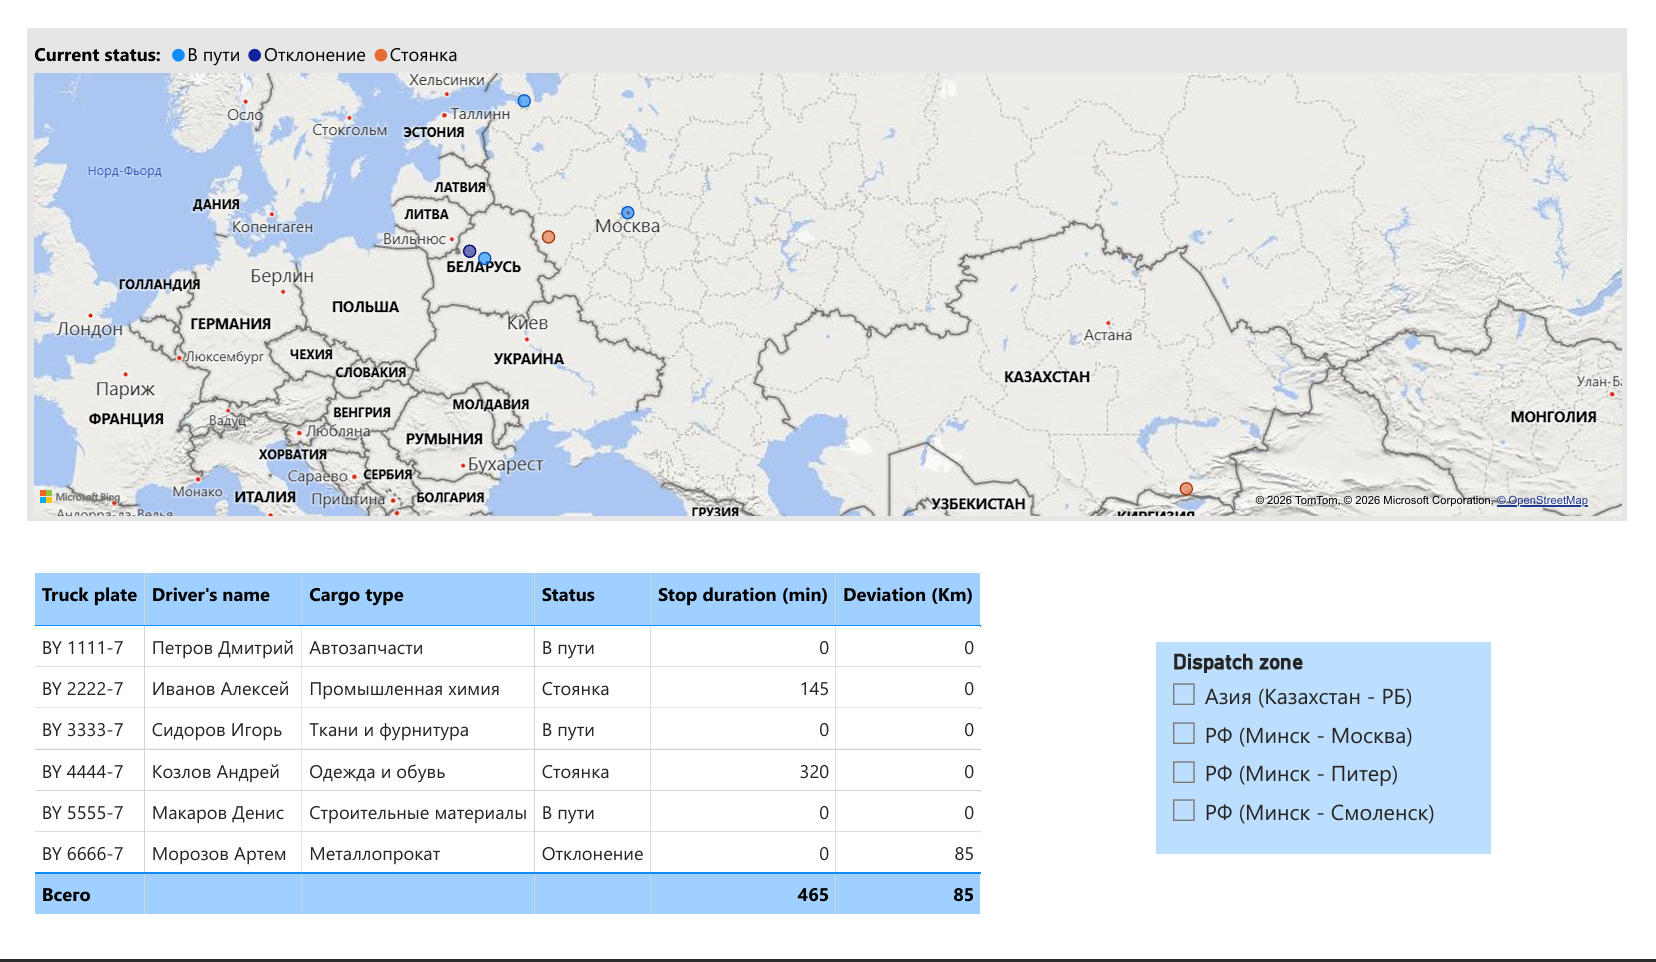

What the dashboard file says about the page in this screenshot:
{"tool":"powerbi","page":{"name":"Страница 1","canvas":[1280,720],"ordinal":0},"visuals":[{"type":"tableEx","fields":{"Values":["active_fleet.truck_plate","active_fleet.driver_name","vehicle_positions.cargo_type","vehicle_positions.current_status","Sum(vehicle_positions.stop_duration_mins)","Sum(vehicle_positions.deviation_km)"]},"box":[0,431.4,902.9,288.6],"z":0},{"type":"actionButton","box":[87.1,0,12.9,20],"z":1000},{"type":"slicer","fields":{"Values":["active_fleet.dispatcher_region"]},"box":[902.9,491.4,268.6,168.6],"z":2000},{"type":"map","fields":{"X":["vehicle_positions.longitude"],"Y":["vehicle_positions.latitude"],"Series":["vehicle_positions.current_status"]},"box":[0,0,1280,394.3],"z":3000}]}

Visuals, with their boxes on the page's 1280x720 design canvas (x1, y1, x2, y2). These are canvas units, not pixel positions in the 1656x962 screenshot, which may show the page scaled, cropped or inside an application window:
tableEx - active_fleet.truck_plate x active_fleet.driver_name: x1=0, y1=431, x2=903, y2=720
actionButton: x1=87, y1=0, x2=100, y2=20
slicer - active_fleet.dispatcher_region: x1=903, y1=491, x2=1172, y2=660
map - vehicle_positions.longitude x vehicle_positions.latitude: x1=0, y1=0, x2=1280, y2=394
